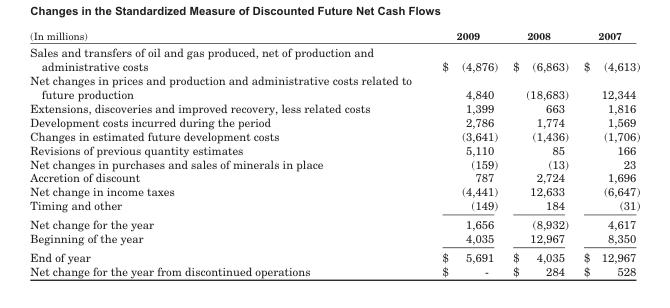table: (29, 28, 639, 277)
table column: (29, 28, 426, 277), (426, 28, 504, 277), (504, 28, 575, 277), (575, 28, 639, 277)
table column header: (29, 28, 639, 43)
table row: (29, 43, 639, 73), (29, 73, 639, 100), (29, 230, 639, 247), (29, 198, 639, 214), (29, 214, 639, 230), (29, 247, 639, 263), (29, 28, 639, 43), (29, 100, 639, 114), (29, 114, 639, 128), (29, 128, 639, 142), (29, 142, 639, 156), (29, 156, 639, 170), (29, 170, 639, 184), (29, 184, 639, 198), (29, 263, 639, 277)
